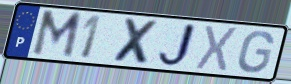1: (78, 13, 103, 61)
G: (236, 30, 276, 75)
J: (155, 21, 200, 70)
M: (29, 9, 85, 61)
X: (111, 16, 162, 68), (193, 24, 241, 74)
